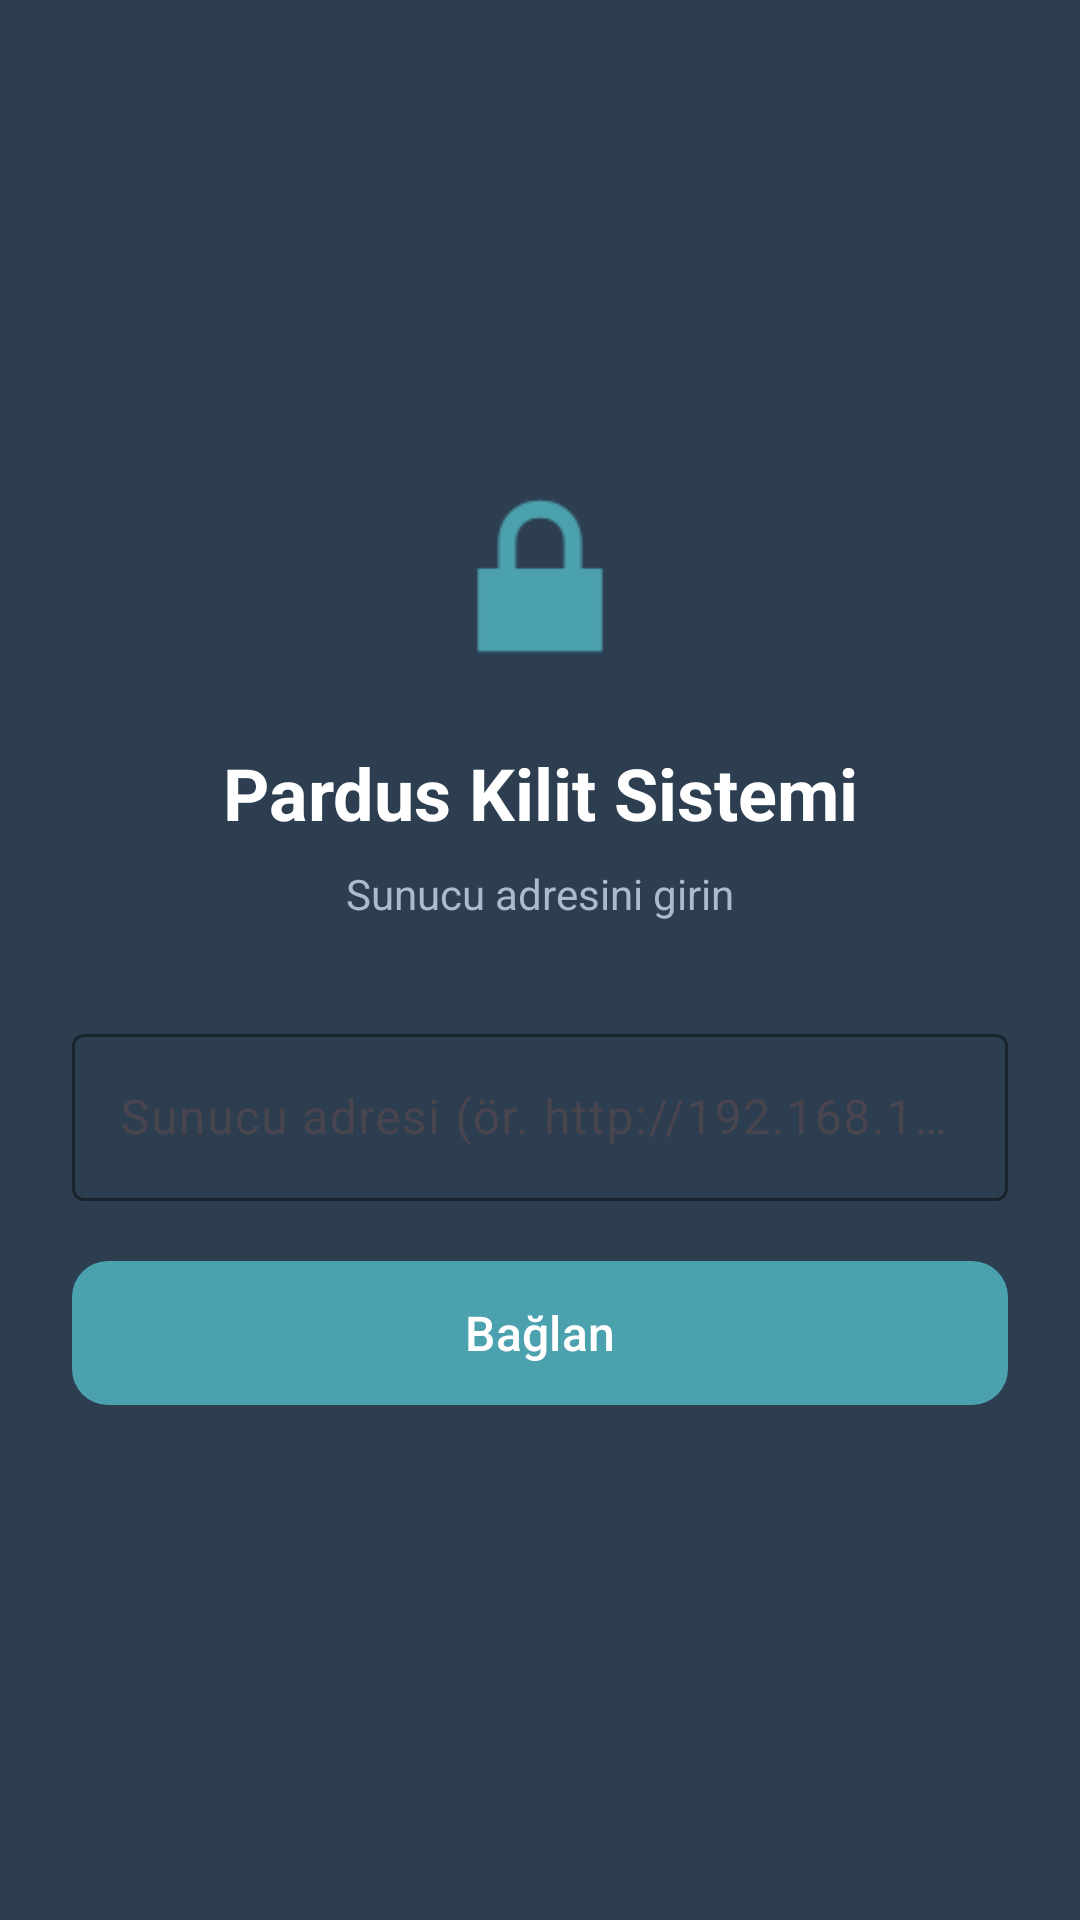

Named icons in this screenshot (1080x1920) and their bounding boxes, (x1, y1, x2, y2):
lock: (477, 500, 603, 652)
